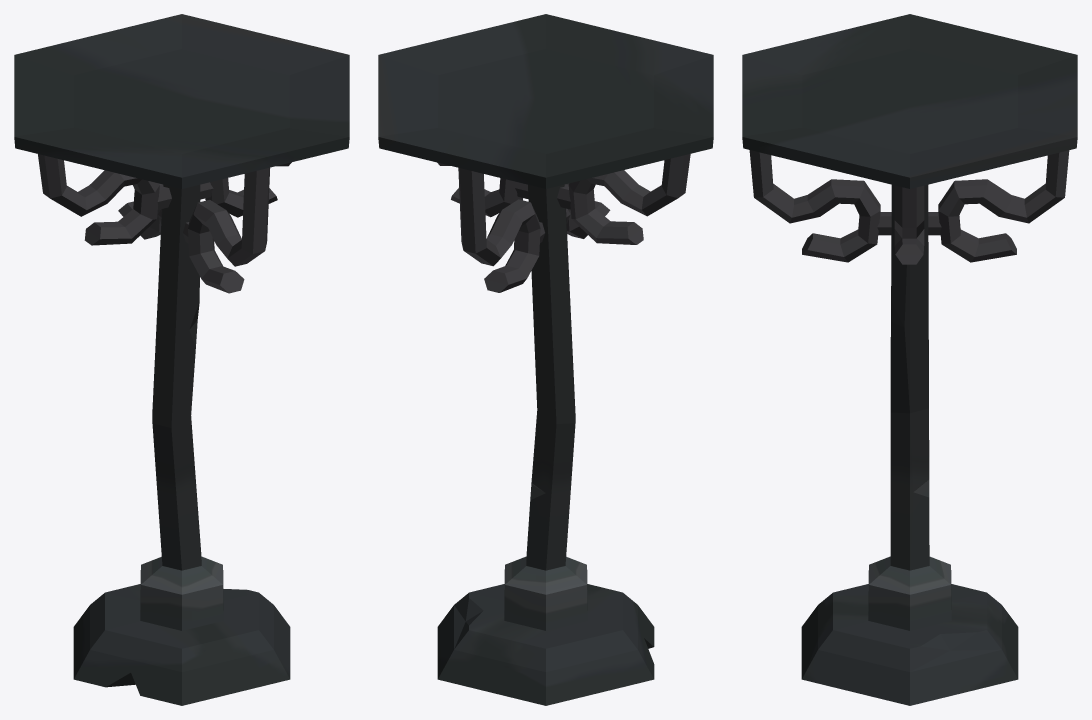
File: candleStand.glb
3 views of the same model, side by side, from view 1: azimuth 30°, elevation 25°; view 2: azimuth 150°, elevation 25°; view 3: azimuth 270°, elevation 25° (orthographic).
Visible parts, largest first — view 1: SM_Prop_Candle_Stand_03; view 2: SM_Prop_Candle_Stand_03; view 3: SM_Prop_Candle_Stand_03.
Part boxes in pixels (x1,y1,x2,y2): SM_Prop_Candle_Stand_03: (14,14,349,705); SM_Prop_Candle_Stand_03: (378,14,713,705); SM_Prop_Candle_Stand_03: (742,14,1077,705).
Bounding box in the file's own units: 4.89 × 7.77 × 4.24.
1 material, 1 textured.
